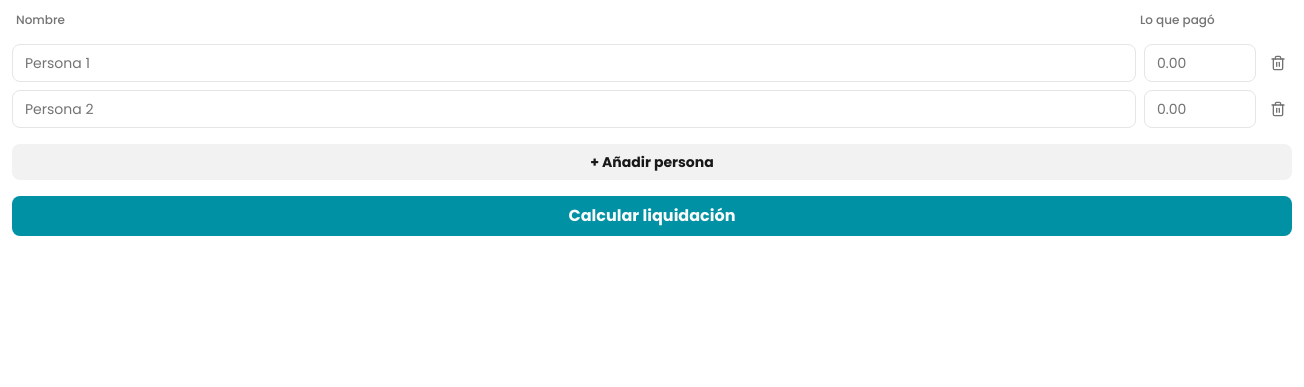
it: ExpenseSettlement › muestra las transacciones cuando los pagos son distintos
Type "100" into the 1st number field with placeholder "0.00".
click(1200, 63); type("100")  # box [1144,44,1256,82]
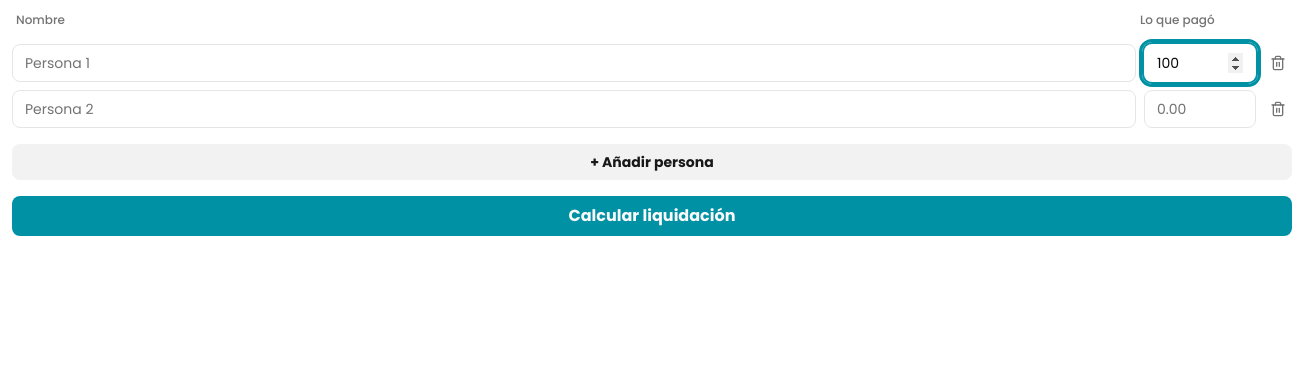
Type "0" into the number field with placeholder "0.00".
click(1200, 109); type("0")  # box [1144,90,1256,128]
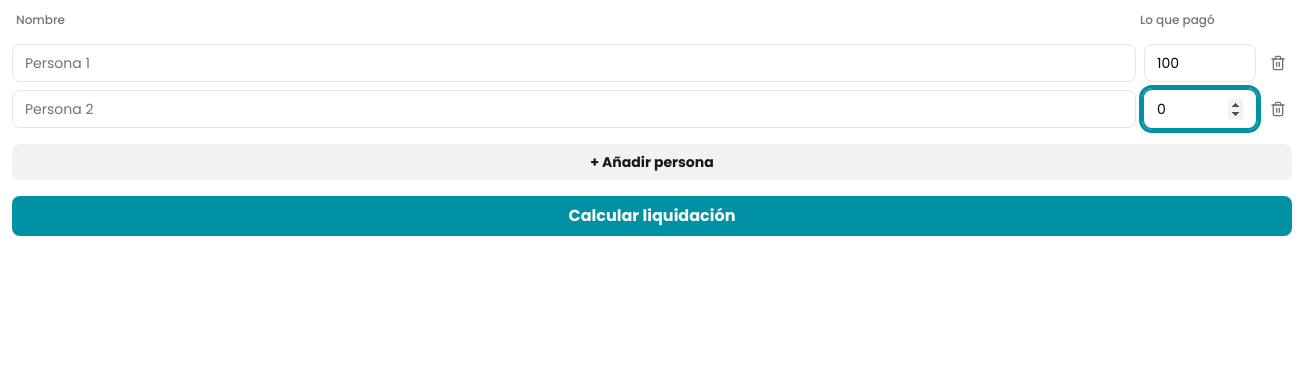
Click the button "Calcular liquidación".
click(652, 216)  # box [12,196,1292,236]
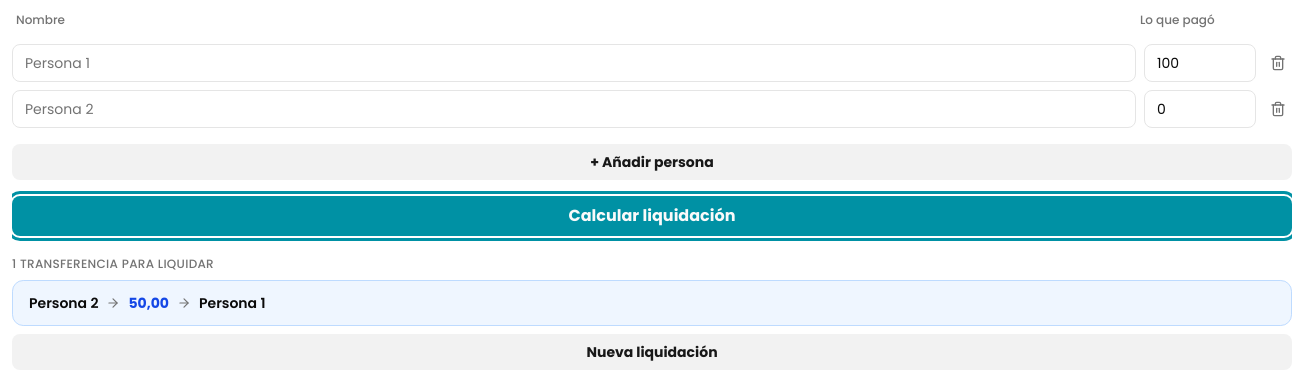
Expected: the text "1 transferencia para liquidar" is shown, [12,255,214,272]
